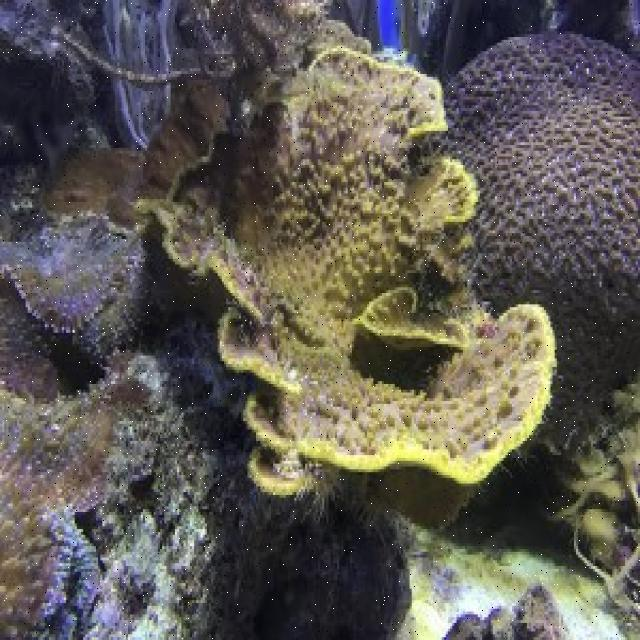Bleached: (59, 494, 207, 640), (110, 349, 224, 407)
Healthy: (151, 1, 554, 496), (425, 29, 640, 438), (3, 336, 151, 640), (1, 212, 153, 335)
